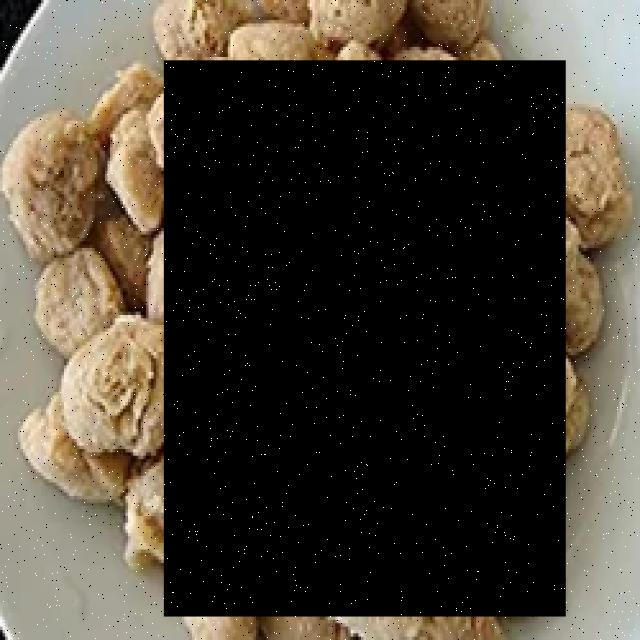Nutrela: (166, 63, 568, 619)
